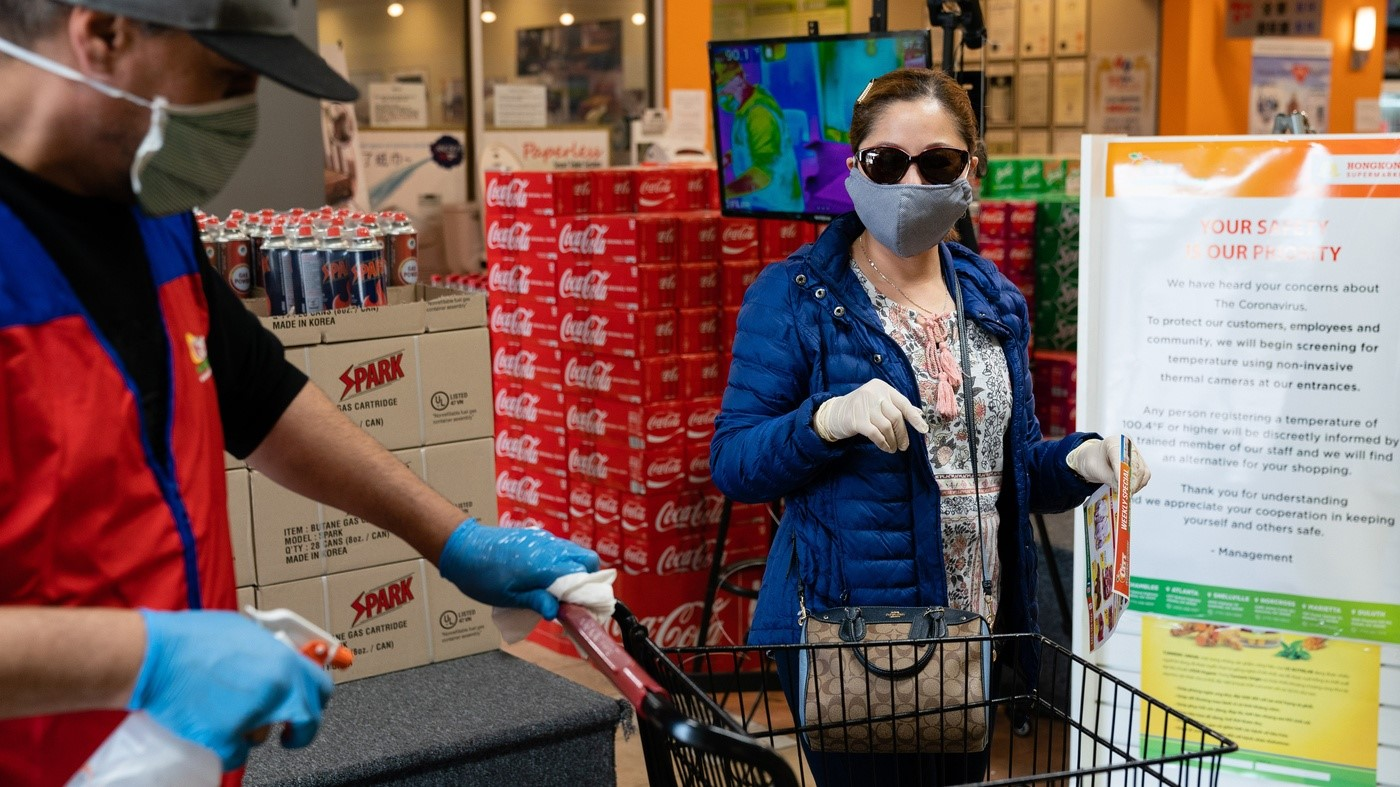face_with_mask: (10, 2, 288, 267), (835, 93, 989, 270)
